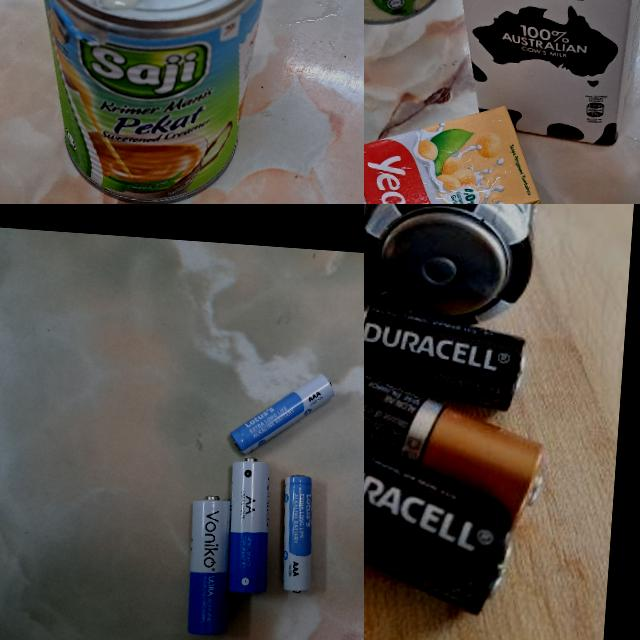bateria: (364, 339, 553, 532), (364, 394, 525, 618), (364, 204, 551, 330), (364, 286, 532, 414), (228, 367, 336, 461), (182, 492, 235, 637), (225, 456, 274, 594), (276, 474, 318, 596)
caixinha: (442, 0, 640, 146), (364, 94, 554, 204)
lata: (20, 0, 278, 204), (364, 0, 449, 28)
